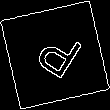P_SW: (26, 24, 84, 86)
